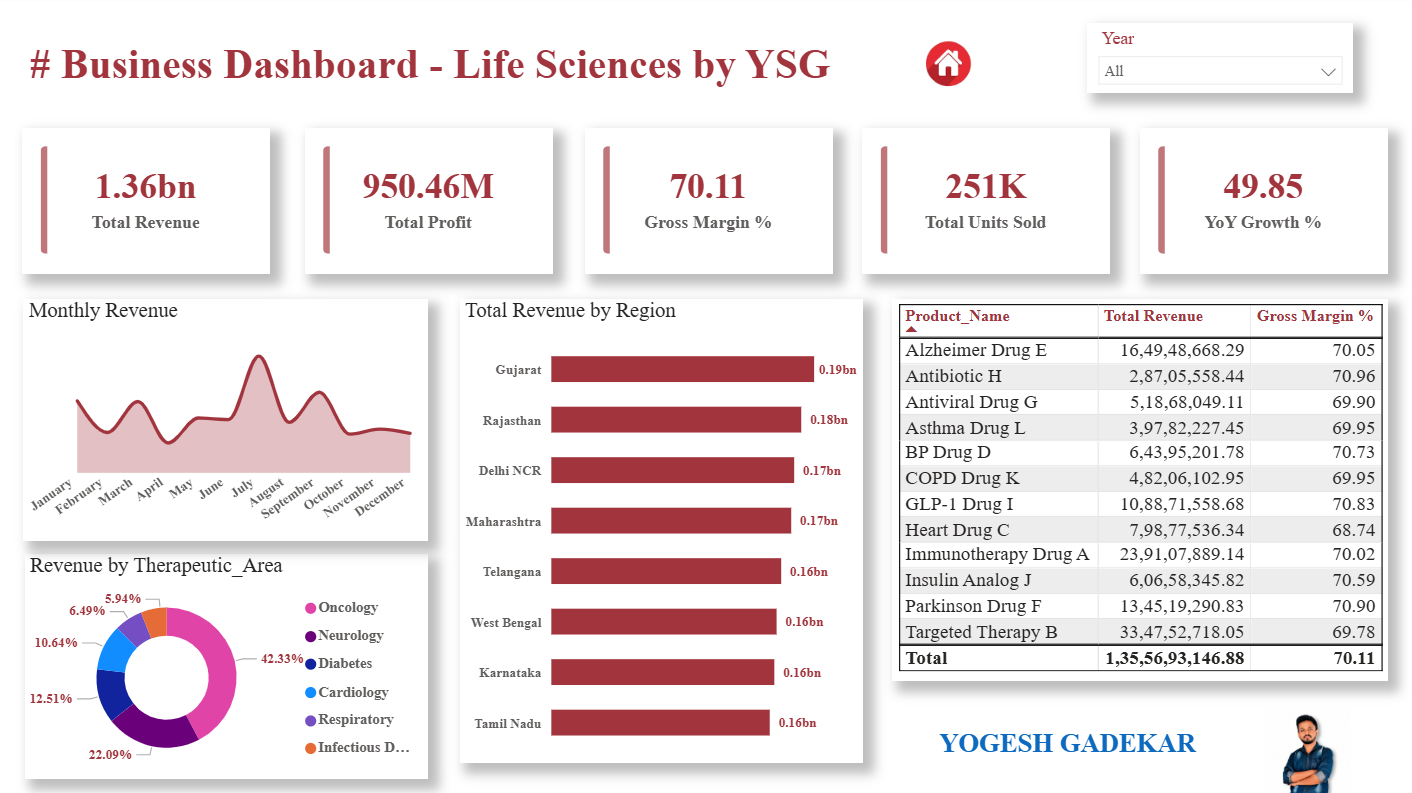

The dashboard page shown, as its layout file describes it:
{"tool":"powerbi","page":{"name":"Page 1","canvas":[1280,720],"ordinal":0},"visuals":[{"type":"cardVisual","fields":{"Data":["lifescience_india_dataset.Total Revenue"]},"box":[23.1,119.4,223.7,131.7],"z":0},{"type":"cardVisual","fields":{"Data":["lifescience_india_dataset.Total Profit"]},"box":[276.9,119.4,223.7,131.7],"z":1000},{"type":"cardVisual","fields":{"Data":["lifescience_india_dataset.Gross Margin %"]},"box":[529.4,119.4,223.7,131.7],"z":2000},{"type":"cardVisual","fields":{"Data":["lifescience_india_dataset.Total Units Sold"]},"box":[780.5,119.4,223.7,131.7],"z":3000},{"type":"cardVisual","fields":{"Data":["lifescience_india_dataset.YoY Growth %"]},"box":[1030.3,119.4,223.7,131.7],"z":4000},{"type":"lineChart","title":"Monthly Revenue","fields":{"Category":["lifescience_india_dataset.Sale_Date.Variation.Date Hierarchy.Month"],"Y":["lifescience_india_dataset.Total Revenue"]},"box":[23.3,274.4,365,218.2],"z":5000},{"type":"donutChart","title":"Revenue by Therapeutic_Area","fields":{"Category":["lifescience_india_dataset.Therapeutic_Area"],"Y":["lifescience_india_dataset.Total Revenue"]},"box":[24.7,503.6,363.6,203.1],"z":6000},{"type":"barChart","fields":{"Category":["lifescience_india_dataset.Region"],"Y":["lifescience_india_dataset.Total Revenue"]},"box":[417.2,274.4,363.6,418.5],"z":7000},{"type":"tableEx","fields":{"Values":["lifescience_india_dataset.Product_Name","lifescience_india_dataset.Total Revenue","lifescience_india_dataset.Gross Margin %"]},"box":[806.9,274.4,447.3,344.4],"z":8000},{"type":"slicer","fields":{"Values":["lifescience_india_dataset.Year"]},"box":[982.5,24.7,240.1,63.1],"z":9000},{"type":"image","box":[806.9,24.7,101.5,74.1],"z":9001},{"type":"textbox","box":[24.7,35.7,768.4,61.7],"z":9002},{"type":"image","box":[1110.1,642.2,144.1,78.2],"z":9003},{"type":"textbox","box":[827.4,655.9,275.8,50.8],"z":9004}]}

Visuals, with their boxes in screenshot pixels (x1, y1, x2, y2), scaled from the page's 1280x720 canvas onto the 1412x793 screenshot:
cardVisual - lifescience_india_dataset.Total Revenue: (25, 132, 272, 277)
cardVisual - lifescience_india_dataset.Total Profit: (305, 132, 552, 277)
cardVisual - lifescience_india_dataset.Gross Margin %: (584, 132, 831, 277)
cardVisual - lifescience_india_dataset.Total Units Sold: (861, 132, 1108, 277)
cardVisual - lifescience_india_dataset.YoY Growth %: (1137, 132, 1383, 277)
"Monthly Revenue" lineChart: (26, 302, 428, 543)
"Revenue by Therapeutic_Area" donutChart: (27, 555, 428, 778)
barChart - lifescience_india_dataset.Region x lifescience_india_dataset.Total Revenue: (460, 302, 861, 763)
tableEx - lifescience_india_dataset.Product_Name x lifescience_india_dataset.Total Revenue: (890, 302, 1384, 682)
slicer - lifescience_india_dataset.Year: (1084, 27, 1349, 97)
image: (890, 27, 1002, 109)
textbox: (27, 39, 875, 107)
image: (1225, 707, 1384, 792)
textbox: (913, 722, 1217, 778)
